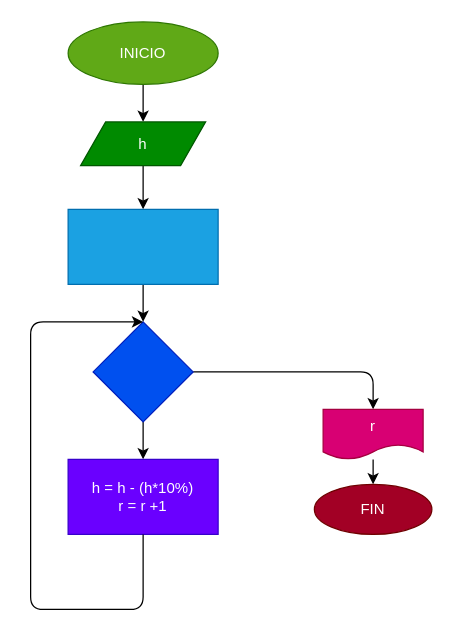
This 454x641 diagram has some shape labels left out. The centre of each missing label's shape, as x and y in pixels:
h > q: point (142, 371)
q = h/5 r = 0: point (142, 246)
